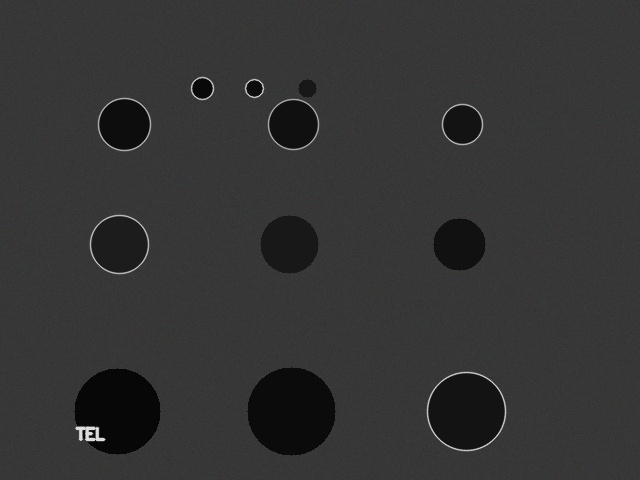hole: (247, 367, 335, 455), (74, 368, 160, 454), (427, 372, 505, 450), (90, 215, 148, 273), (260, 215, 318, 273), (98, 98, 150, 150), (433, 218, 485, 270), (268, 99, 318, 149), (442, 104, 482, 144), (191, 77, 213, 99), (245, 79, 263, 97), (298, 79, 316, 97)
